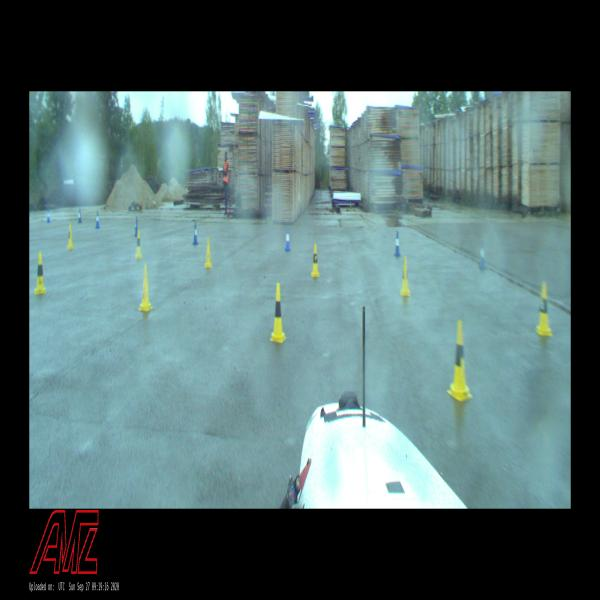blue_cone: (478, 243, 487, 272), (284, 227, 290, 251), (394, 233, 400, 256), (192, 222, 198, 244), (95, 212, 100, 228), (134, 216, 138, 235), (77, 209, 81, 222), (47, 209, 50, 222)
yellow_cone: (447, 321, 473, 402), (270, 284, 286, 342), (536, 282, 552, 336), (138, 265, 153, 311), (35, 250, 46, 294), (400, 258, 410, 296), (311, 244, 320, 276), (204, 238, 212, 267), (135, 229, 142, 259), (67, 224, 74, 249)
